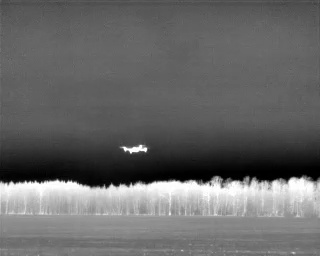DRONE: (116, 139, 153, 159)
